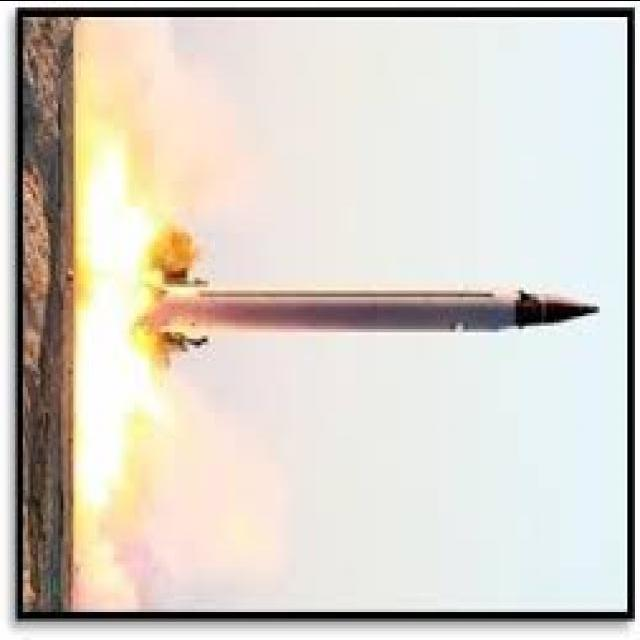Missile: (150, 272, 607, 336)
